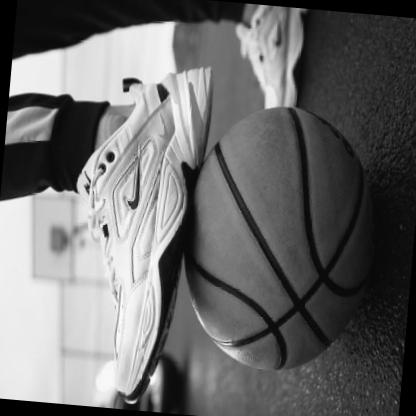ankle: (114, 121, 119, 125)
heel: (172, 76, 176, 80)
left_foot: (73, 55, 216, 404)
pinky: (131, 309, 136, 315)
toe: (117, 364, 120, 369)
